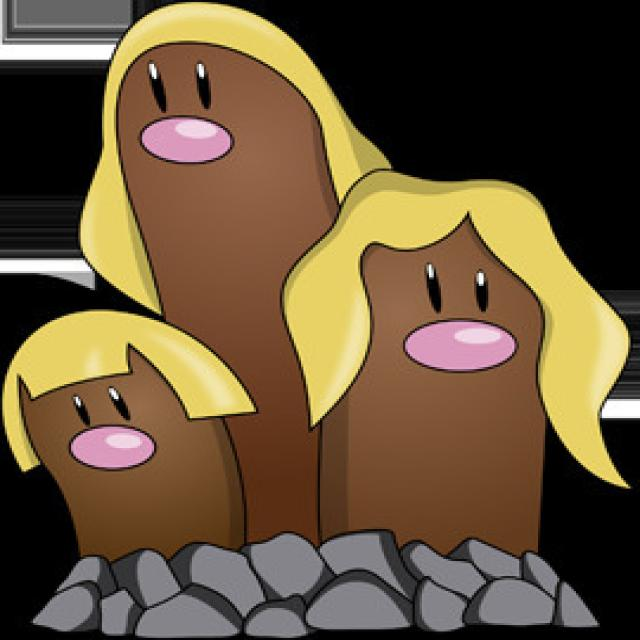Dugtrio: (25, 40, 558, 576)
